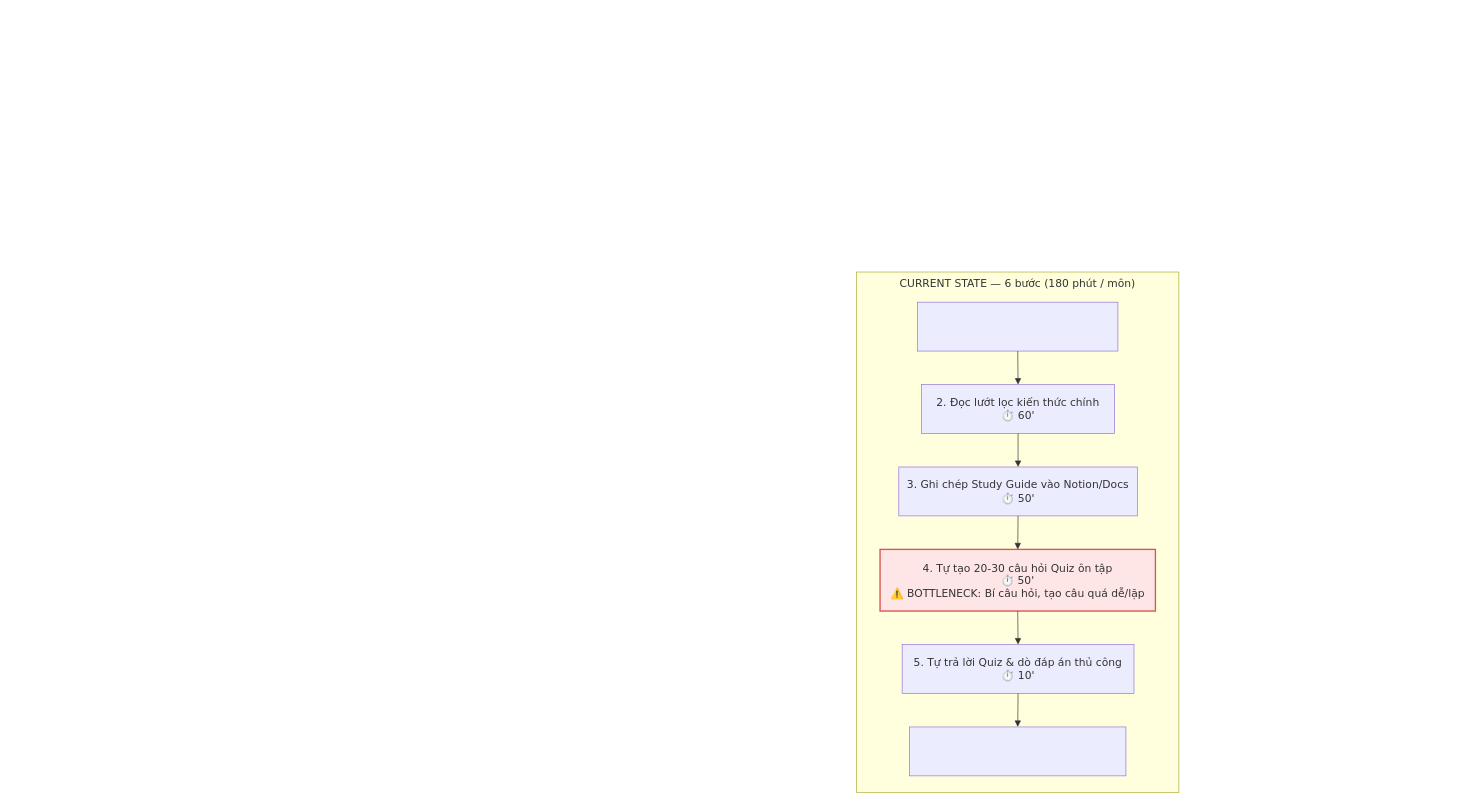
Some shapes in this 1457 by 811 pixel diagram are drawn without their labels. The box of each missing label's shape, as (x1, y1, x2, y2) in pixels:
1. Tải 10-12 file slide PDF từ LMS ⏱️ 10': (917, 302, 1118, 351)
6. Ôn tập và học thuộc ⏱️ 0' (Chưa kịp học vì hết thời gian): (909, 726, 1126, 776)
